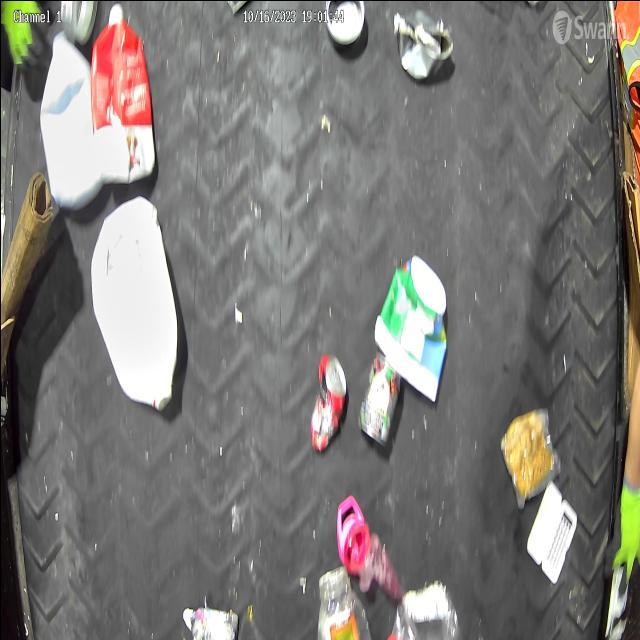can: (392, 4, 452, 82), (357, 350, 401, 446), (308, 350, 346, 452), (324, 0, 366, 43)
milk_jug: (90, 195, 177, 411), (41, 30, 106, 208)
non_white_jug: (92, 3, 155, 182)
